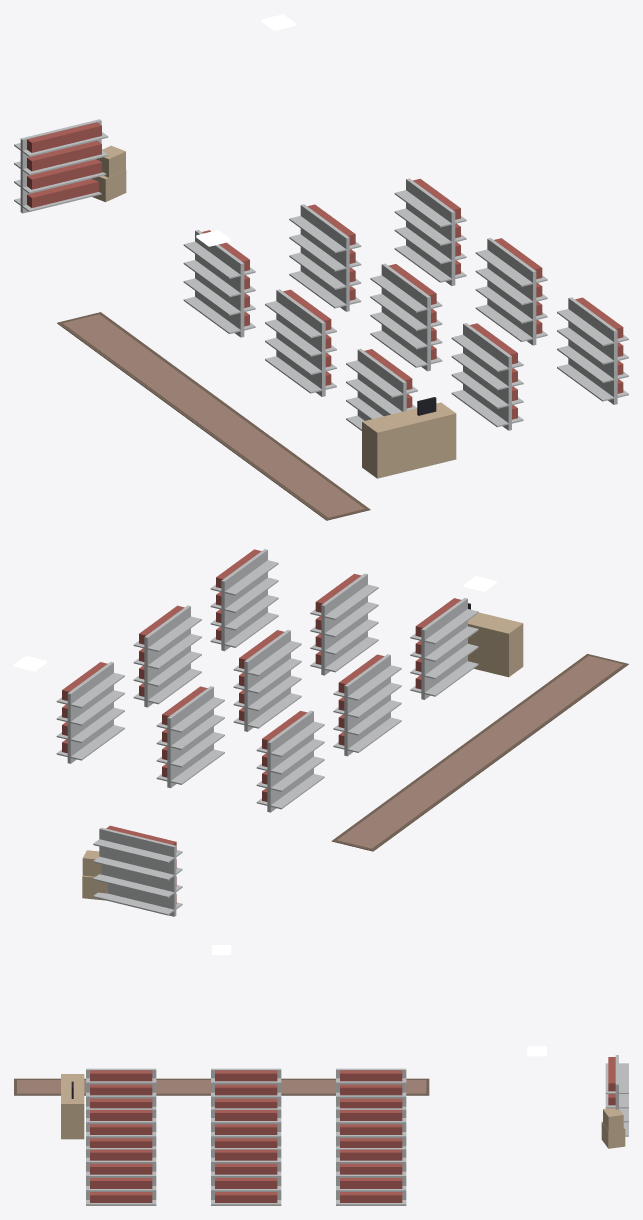
The model's file is fine-s0.glb.
3 views of the same model, one above another, from view 1: azimuth 30°, elevation 25°; view 2: azimuth 150°, elevation 25°; view 3: azimuth 270°, elevation 25° (orthographic). The views are drawn at different scales.
Visible parts, largest first — view 1: soft-s0, shelving.000, shop-counter.000, shelf.007, shelf.003, shelf.004, shelf.001, shelf.008, shelf.006, shelf.005, shelf.000, shelf.002 (+1 smaller); view 2: soft-s0, shelving.000, shelf.002, shelf.001, shelf.005, shelf.004, shelf.006, shelf.007, shelf.003, shelf.008, shelf.000, shop-counter.000 (+1 smaller); view 3: shelf.006, shelf.007, shelf.008, soft-s0, shelf.000, shelf.001, shelf.002, shelf.003, shelf.004, shelf.005, shop-counter.000, shelving.000 (+1 smaller).
Boxes of the visible parts, x1,y1,x2,y2 form: soft-s0: (57,312,370,520); shelving.000: (14,119,108,213); shop-counter.000: (362,397,456,478); shelf.007: (475,238,547,345); shelf.003: (289,204,361,311); shelf.004: (370,263,442,371); shelf.001: (265,289,336,396); shelf.008: (557,297,628,404); shelf.006: (394,178,466,285); shelf.005: (451,323,523,430); shelf.000: (183,230,255,337); shelf.002: (346,348,417,430); soft-s0: (331,654,628,851); shelving.000: (93,825,182,916); shelf.002: (410,598,478,699); shelf.001: (333,654,401,756); shelf.005: (310,573,378,675); shelf.004: (233,630,301,731); shelf.006: (56,662,124,763); shelf.007: (133,605,201,707); shelf.003: (156,686,224,788); shelf.008: (210,549,278,651); shelf.000: (256,710,324,812); shop-counter.000: (468,603,523,677); shelf.006: (336,1148,406,1205); shelf.007: (211,1148,281,1205); shelf.008: (86,1148,156,1205); soft-s0: (14,1078,429,1095); shelf.000: (336,1068,406,1108); shelf.001: (211,1068,281,1108); shelf.002: (86,1068,156,1108); shelf.003: (336,1108,406,1147); shelf.004: (211,1108,281,1147); shelf.005: (86,1108,156,1147); shop-counter.000: (61,1074,84,1139); shelving.000: (605,1055,628,1136).
Size of the model in its own units: 7.95 by 3.9 by 15.75.
